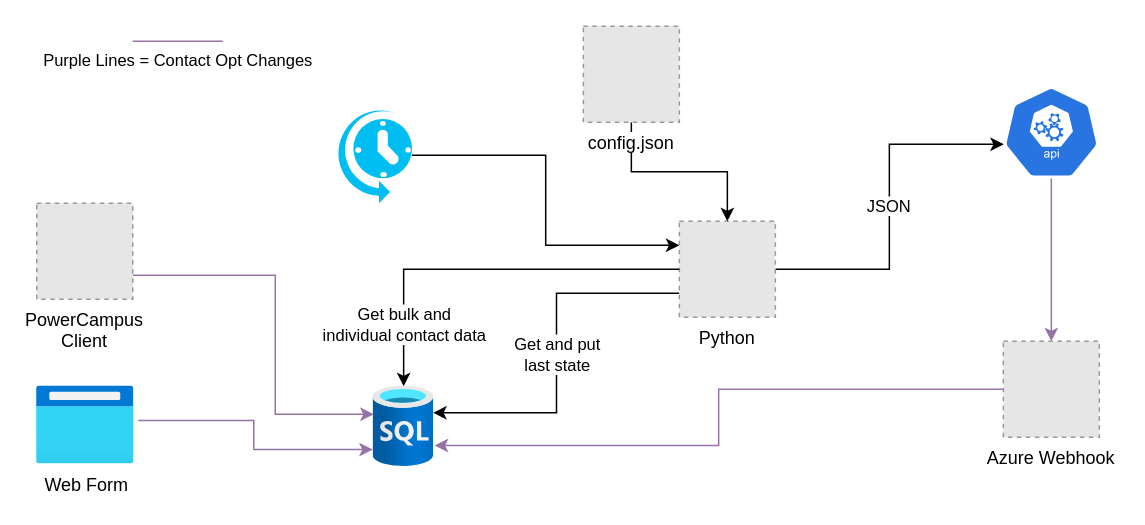
The diagram is 1145 pixels wide and 525 high, and some of its shapes have lost their labels. Grey dashed boxes stand in for pictures. The shapes that lost their labels are listed below. From the top down, each one's centre as x and y in pixels, then its label:
the point at 1050,131: Mongoose API
the point at 372,154: Windows Task Scheduler
the point at 403,426: PowerCampus
